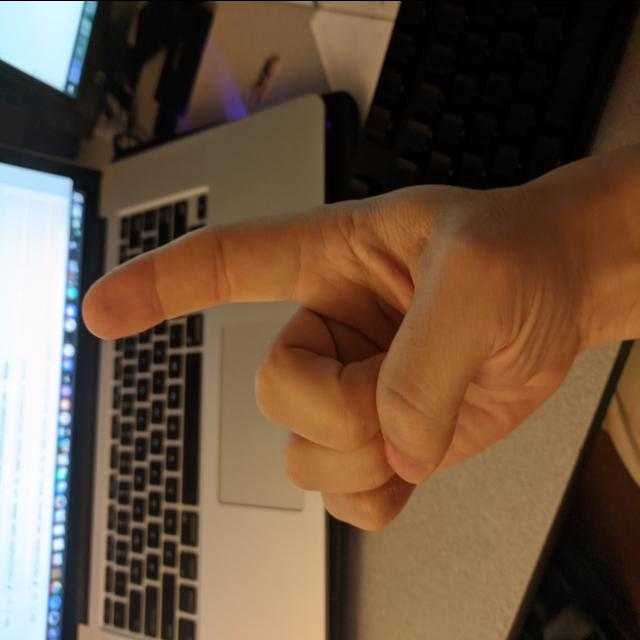D: (77, 172, 589, 538)
